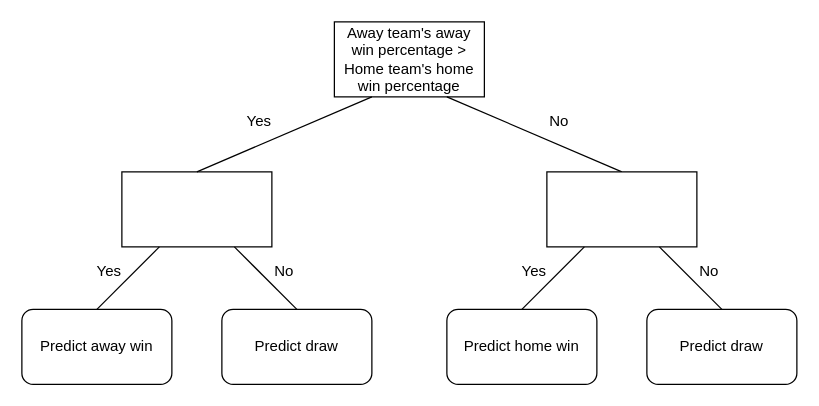
Some shapes in this 819 by 406 pixel diagram are drawn without their labels. Each missing label, with the box of its shape:
Away team's away win percentage > 30%: (121, 171, 272, 247)
Home team's home win percentage > 25%: (546, 171, 697, 247)
